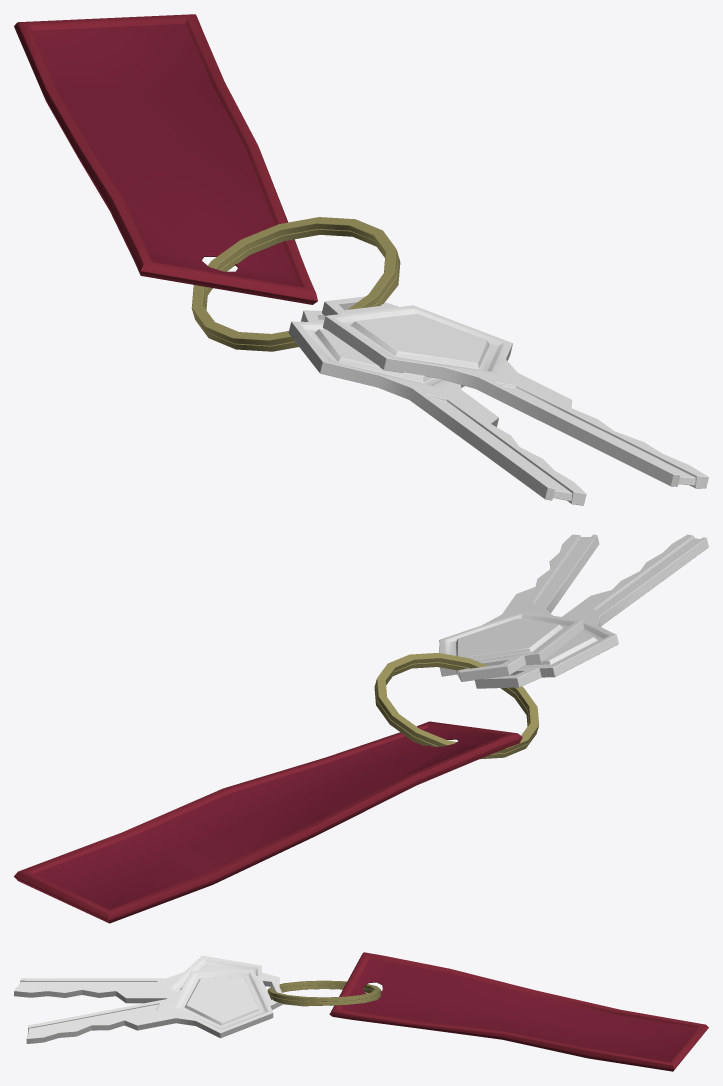
The model's file is 3d_Keychain.fbx.
3 views of the same model, one above another, from view 1: azimuth 30°, elevation 25°; view 2: azimuth 150°, elevation 25°; view 3: azimuth 270°, elevation 25° (orthographic). The views are drawn at different scales.
Parts seen in each view (by area): view 1: ring.001; view 2: ring.001; view 3: ring.001.
Part boxes in pixels (x1,y1,x2,y2): ring.001: [14, 14, 708, 505]; ring.001: [14, 534, 708, 923]; ring.001: [14, 952, 708, 1071].
Size of the model in its own units: 0.0654 by 0.0125 by 0.2113.
